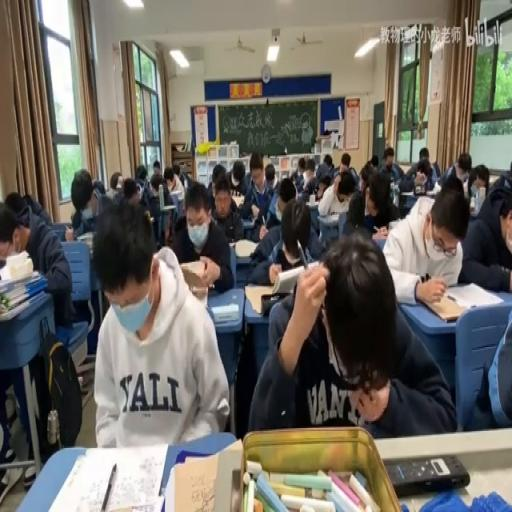calculator: (43, 444, 168, 509), (169, 453, 220, 512), (443, 282, 504, 308), (242, 282, 277, 314), (0, 268, 39, 294), (398, 189, 433, 213), (178, 258, 206, 280), (210, 302, 238, 322), (234, 236, 258, 258), (77, 230, 95, 252), (169, 189, 182, 219), (48, 223, 67, 242), (318, 212, 338, 226), (238, 213, 256, 226), (476, 184, 485, 209), (372, 226, 388, 239), (306, 196, 320, 208), (250, 203, 260, 219), (387, 219, 400, 230), (425, 189, 438, 196), (160, 204, 174, 210), (228, 240, 234, 249)
paper: (248, 232, 450, 439), (0, 191, 74, 486), (245, 188, 325, 282), (170, 179, 234, 290), (464, 291, 510, 431), (460, 172, 512, 293), (360, 168, 401, 233), (69, 168, 104, 237), (315, 168, 357, 222), (145, 172, 174, 243), (398, 148, 438, 196), (0, 203, 27, 263), (441, 151, 473, 192), (18, 189, 52, 225), (224, 159, 250, 202), (378, 145, 402, 179), (260, 162, 279, 202), (122, 175, 142, 205), (290, 156, 306, 192), (210, 164, 226, 198), (277, 176, 294, 202), (172, 160, 186, 188), (498, 162, 512, 189), (467, 168, 480, 195), (302, 174, 317, 196), (250, 151, 262, 175), (91, 179, 105, 198), (134, 165, 148, 183), (108, 171, 122, 189), (430, 159, 440, 179), (340, 152, 350, 171), (164, 171, 174, 189), (150, 181, 162, 196), (318, 179, 328, 196), (304, 164, 314, 179), (360, 176, 369, 192), (322, 154, 332, 168), (418, 145, 428, 158), (418, 169, 428, 182), (369, 155, 378, 169), (151, 160, 160, 170)
person: (386, 452, 470, 496), (414, 182, 426, 193)
